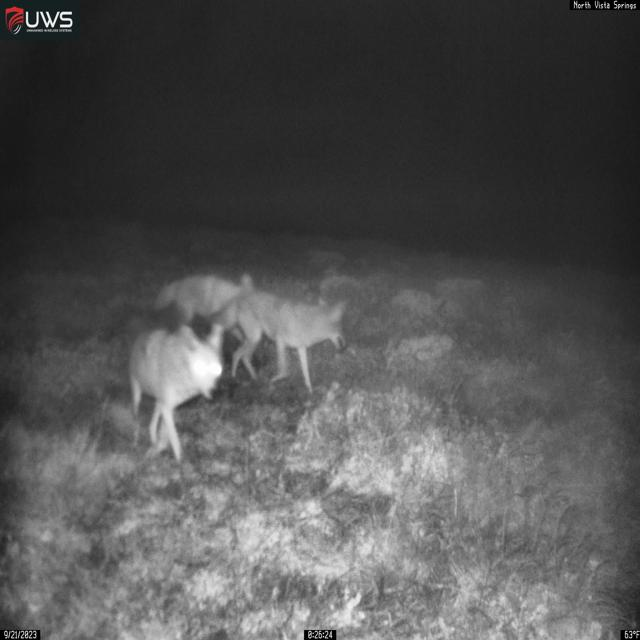coyote: (127, 322, 224, 462)
